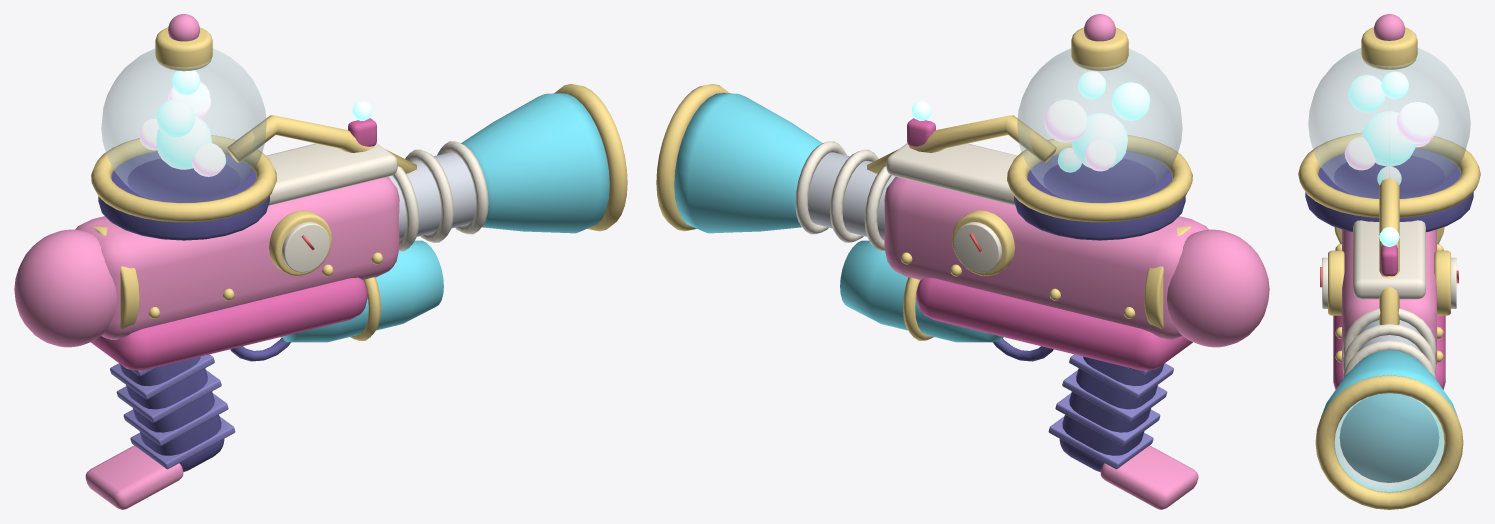
Rendered from weap_bubblegun.glb.
3 views of the same model, side by side, from view 1: azimuth 30°, elevation 25°; view 2: azimuth 150°, elevation 25°; view 3: azimuth 270°, elevation 25° (orthographic). The views are drawn at different scales.
Visible parts, largest first — view 1: W_Blaster__bl_pink, W_Blaster__bl_aqua, W_Blaster__bl_glass, W_Blaster__bl_gold, W_Blaster__bl_navy, W_Blaster__bl_pinkd, W_Blaster__bl_cream, W_Blaster__bl_navyl, W_Blaster__bl_glow, W_Blaster__bl_steel, W_Blaster__bl_glow2; view 2: W_Blaster__bl_pink, W_Blaster__bl_aqua, W_Blaster__bl_glass, W_Blaster__bl_gold, W_Blaster__bl_navy, W_Blaster__bl_pinkd, W_Blaster__bl_cream, W_Blaster__bl_navyl, W_Blaster__bl_glow, W_Blaster__bl_steel, W_Blaster__bl_glow2; view 3: W_Blaster__bl_gold, W_Blaster__bl_glass, W_Blaster__bl_aqua, W_Blaster__bl_film, W_Blaster__bl_cream, W_Blaster__bl_glow, W_Blaster__bl_navy, W_Blaster__bl_pink, W_Blaster__bl_glow2, W_Blaster__bl_pinkd, W_Blaster__bl_steel.
Boxes of the visible parts, x1=… form: W_Blaster__bl_pink: x1=14, y1=14, x2=399, y2=509; W_Blaster__bl_aqua: x1=280, y1=93, x2=609, y2=342; W_Blaster__bl_glass: x1=101, y1=48, x2=266, y2=202; W_Blaster__bl_gold: x1=91, y1=27, x2=627, y2=340; W_Blaster__bl_navy: x1=98, y1=151, x2=290, y2=471; W_Blaster__bl_pinkd: x1=91, y1=118, x2=376, y2=370; W_Blaster__bl_cream: x1=266, y1=141, x2=488, y2=272; W_Blaster__bl_navyl: x1=110, y1=354, x2=235, y2=469; W_Blaster__bl_glow: x1=156, y1=70, x2=372, y2=169; W_Blaster__bl_steel: x1=388, y1=152, x2=475, y2=240; W_Blaster__bl_glow2: x1=139, y1=82, x2=225, y2=176; W_Blaster__bl_pink: x1=884, y1=14, x2=1269, y2=509; W_Blaster__bl_aqua: x1=674, y1=93, x2=1003, y2=342; W_Blaster__bl_glass: x1=1017, y1=48, x2=1182, y2=202; W_Blaster__bl_gold: x1=656, y1=27, x2=1192, y2=340; W_Blaster__bl_navy: x1=993, y1=151, x2=1185, y2=471; W_Blaster__bl_pinkd: x1=907, y1=118, x2=1192, y2=370; W_Blaster__bl_cream: x1=795, y1=141, x2=1017, y2=272; W_Blaster__bl_navyl: x1=1048, y1=354, x2=1173, y2=469; W_Blaster__bl_glow: x1=911, y1=71, x2=1150, y2=172; W_Blaster__bl_steel: x1=808, y1=152, x2=895, y2=240; W_Blaster__bl_glow2: x1=1044, y1=99, x2=1116, y2=171; W_Blaster__bl_gold: x1=1298, y1=27, x2=1480, y2=509; W_Blaster__bl_glass: x1=1308, y1=48, x2=1470, y2=198; W_Blaster__bl_aqua: x1=1321, y1=350, x2=1457, y2=482; W_Blaster__bl_film: x1=1334, y1=393, x2=1444, y2=492; W_Blaster__bl_cream: x1=1322, y1=220, x2=1456, y2=378; W_Blaster__bl_glow: x1=1334, y1=71, x2=1444, y2=491; W_Blaster__bl_navy: x1=1305, y1=148, x2=1473, y2=231; W_Blaster__bl_pink: x1=1342, y1=14, x2=1436, y2=365; W_Blaster__bl_glow2: x1=1344, y1=102, x2=1438, y2=170; W_Blaster__bl_pinkd: x1=1333, y1=245, x2=1445, y2=389; W_Blaster__bl_steel: x1=1358, y1=320, x2=1420, y2=351.
Size of the model in its own units: 1.16 by 0.8976 by 0.326.
